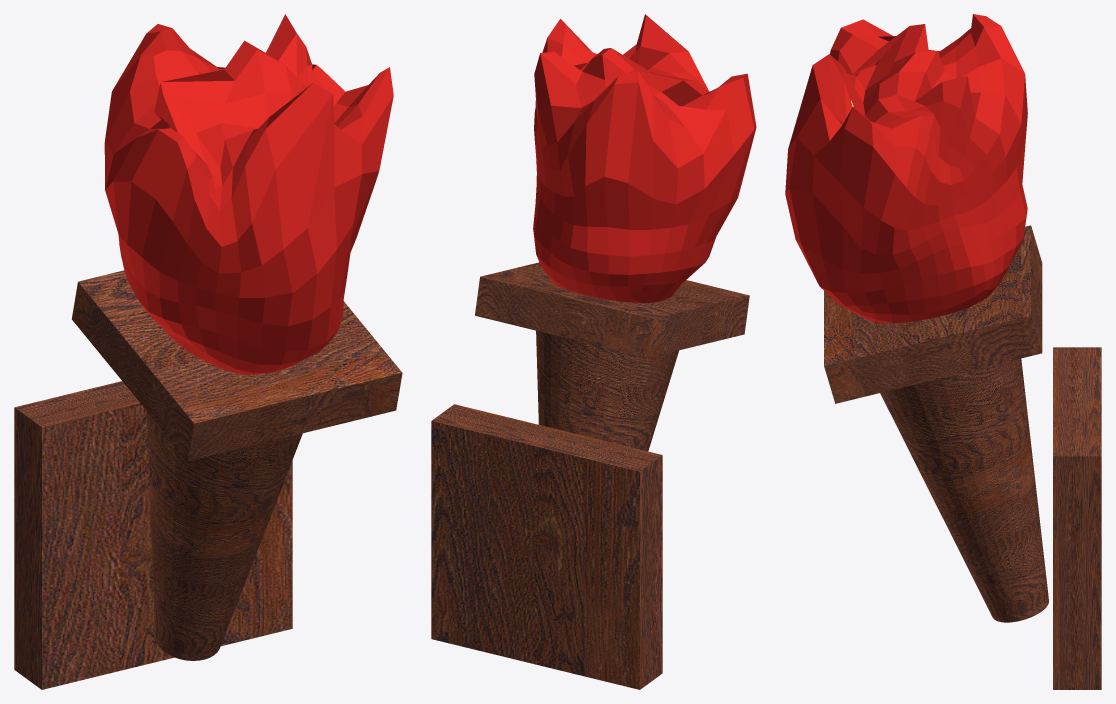
Rendered from Torch.fbx.
The picture shows the model from 3 angles, left to right: view 1: azimuth 30°, elevation 25°; view 2: azimuth 150°, elevation 25°; view 3: azimuth 270°, elevation 25°; orthographic projection. The views are drawn at different scales.
Visible parts, largest first — view 1: Cylinder, Cube.001; view 2: Cylinder, Cube.001; view 3: Cube.001, Cylinder.
Part boxes in pixels (x1,y1,x2,y2): Cylinder: (14, 270, 402, 689); Cube.001: (104, 14, 393, 374); Cylinder: (431, 262, 749, 689); Cube.001: (533, 14, 756, 302); Cube.001: (785, 14, 1027, 323); Cylinder: (824, 225, 1101, 689).
Size of the model in its own units: 171 by 421 by 201.
